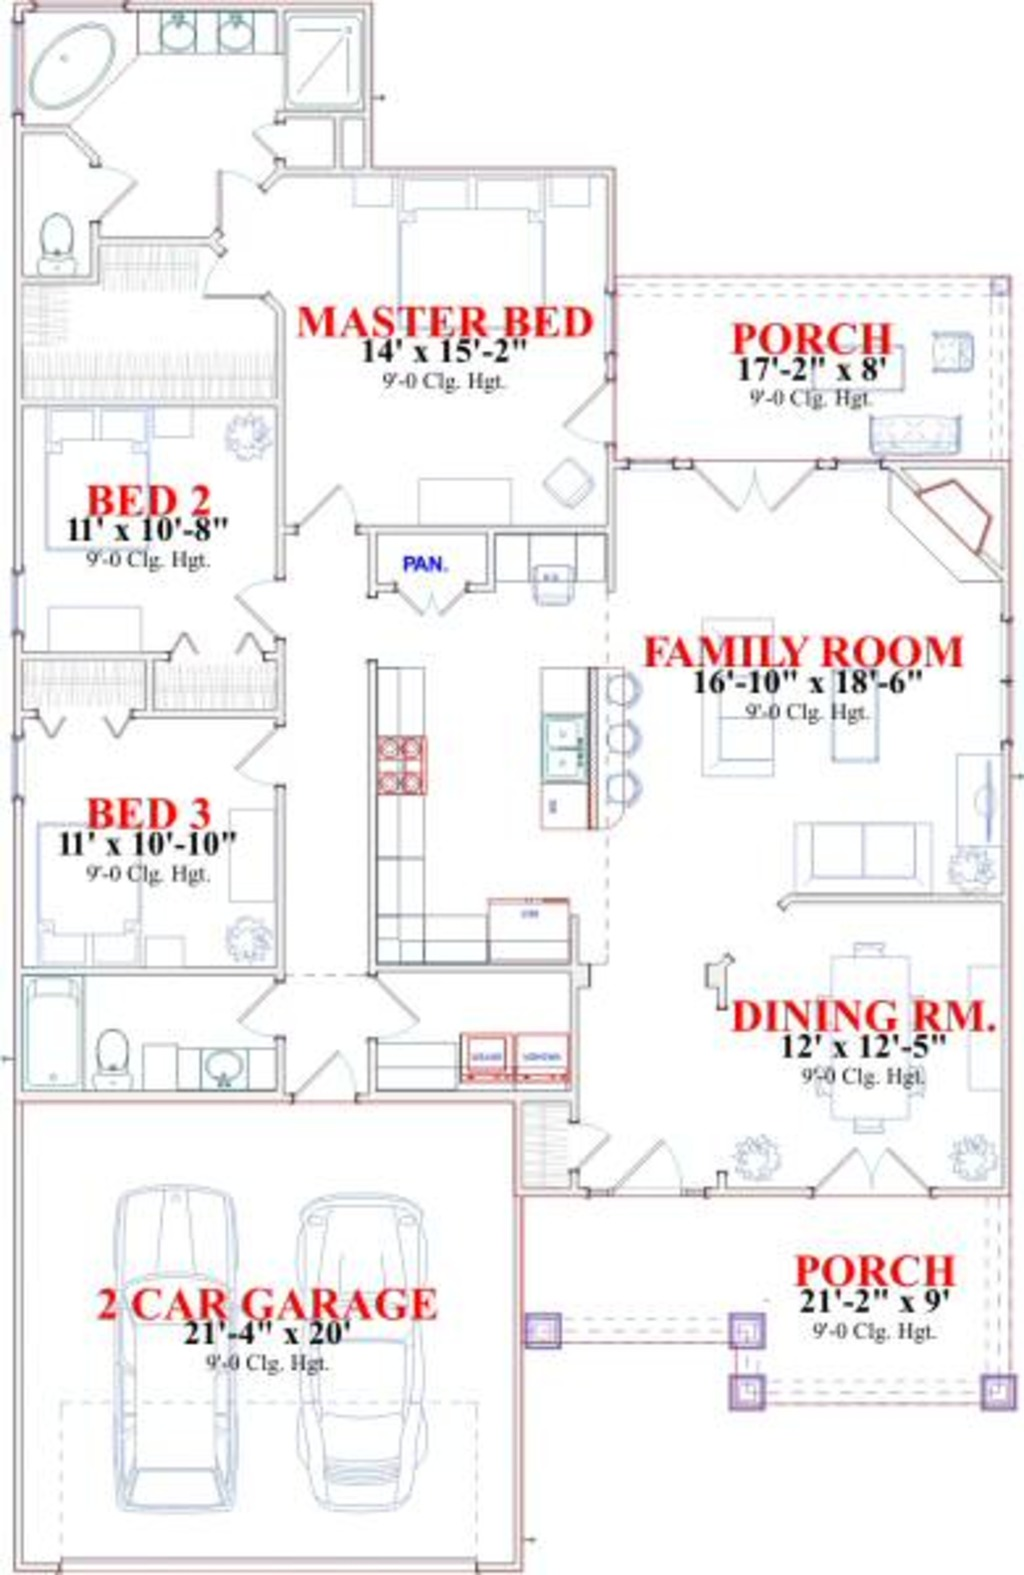bed: (391, 173, 549, 368), (23, 797, 170, 965), (42, 399, 187, 551)
door: (799, 1147, 937, 1198), (189, 249, 287, 320), (606, 1132, 699, 1201), (230, 711, 307, 792), (561, 360, 634, 444), (87, 143, 149, 235), (352, 968, 425, 1042), (234, 566, 303, 644), (234, 975, 301, 1043), (301, 480, 373, 540), (215, 160, 273, 232), (296, 1047, 360, 1099)
kitchen_bar: (525, 651, 642, 844)
large_sink: (34, 197, 94, 285), (84, 1016, 146, 1094)
large_sofa: (689, 604, 801, 775), (792, 792, 944, 901)
small_sink: (137, 1030, 280, 1085), (142, 11, 267, 59)
tub: (15, 13, 130, 125), (18, 965, 94, 1094)
